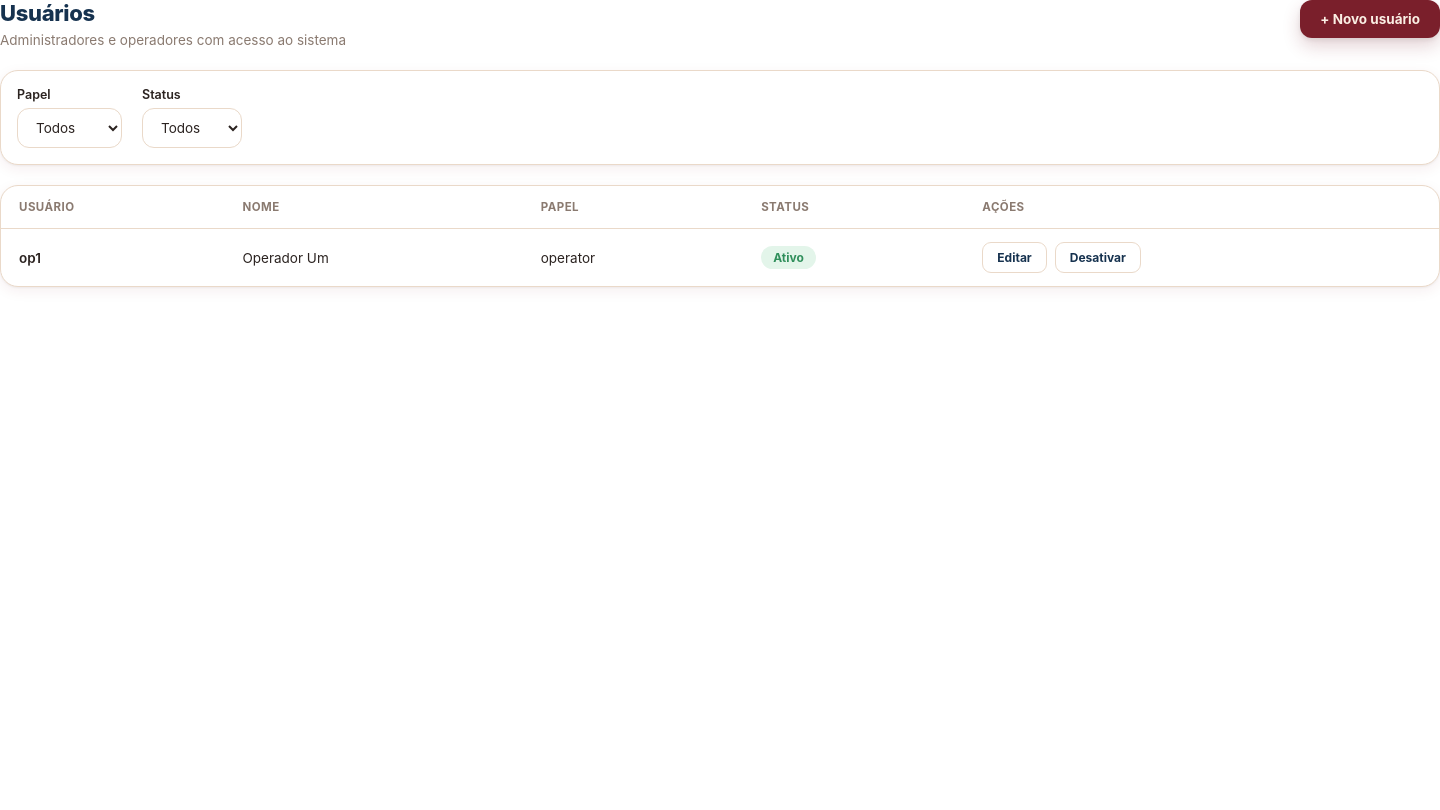
UsersListScreen › clicar em Editar abre o modal pré-preenchido com os dados do usuário
This screenshot has width=1440, height=810.
Expected: the text "op1" is shown, [1,229,224,286]
Click the button with test id "edit-user-1" at (1014,258), box [982,242,1047,273]
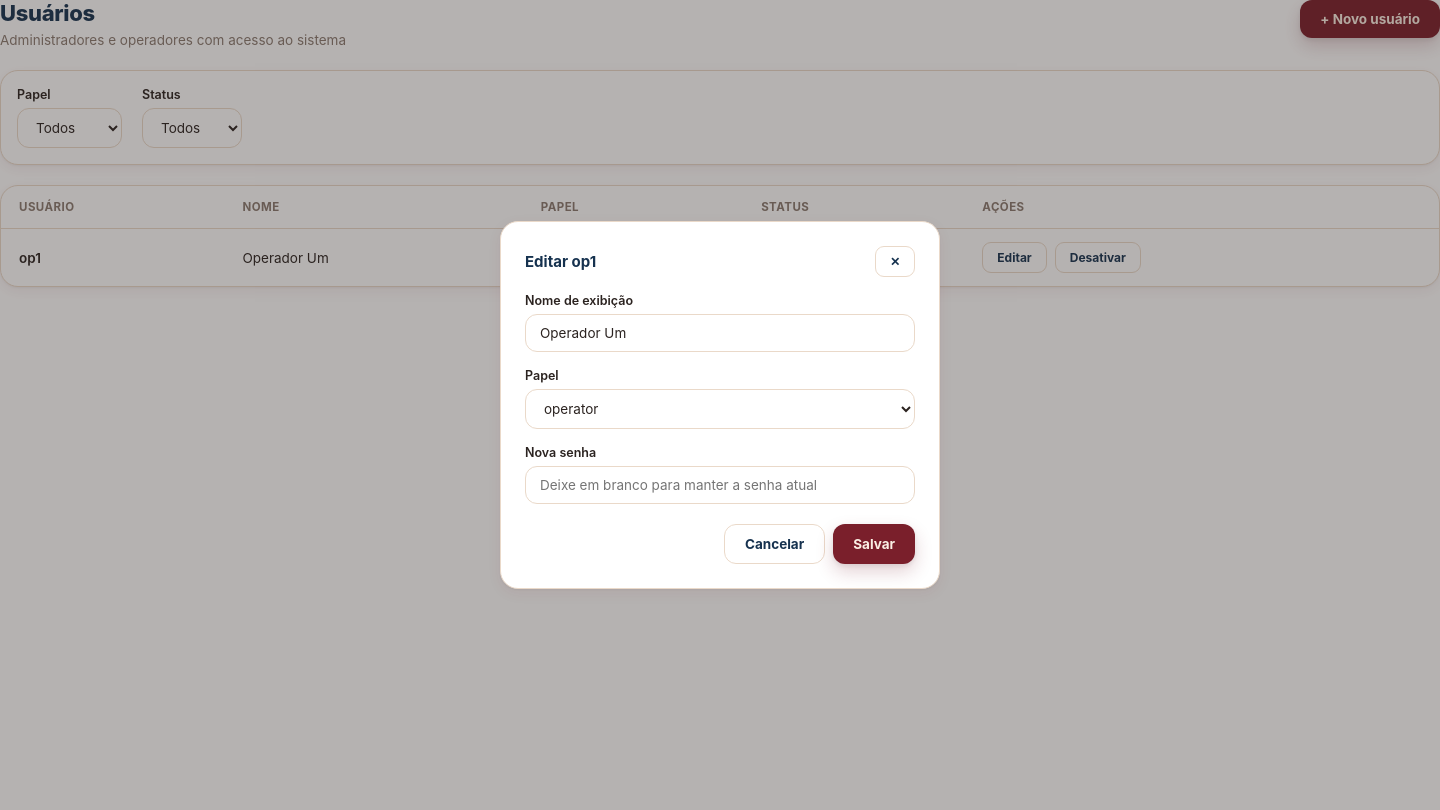
Now the heading "Editar op1" is shown, box [525,252,596,271]
Now the field with test id "edit-user-displayname" holds "Operador Um", box [525,314,915,352]
Now the dropdown with test id "edit-user-role" shows "operator", box [525,389,915,429]
